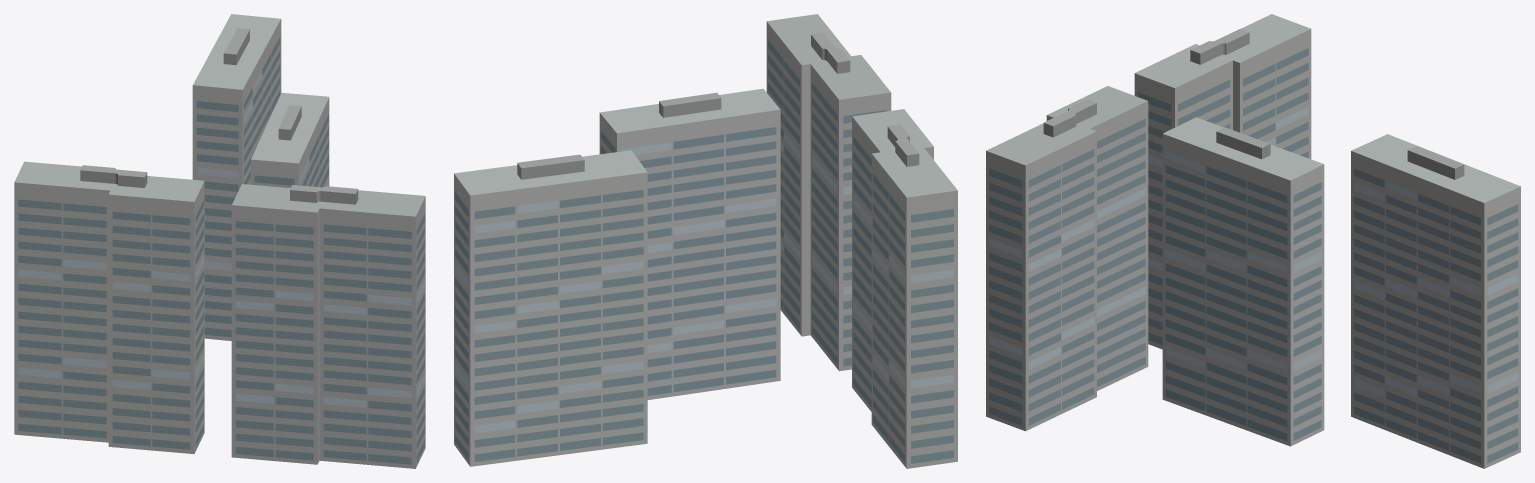
File: apt-a15786116.glb
3 renders of one model, left to right at view 1: azimuth 30°, elevation 25°; view 2: azimuth 150°, elevation 25°; view 3: azimuth 270°, elevation 25°, orthographic. The views are drawn at different scales.
Visible parts, largest first — view 1: apt-a15786116; view 2: apt-a15786116; view 3: apt-a15786116.
Boxes of the visible parts, <box> form: apt-a15786116: <box>14,14,425,468</box>; apt-a15786116: <box>454,14,957,468</box>; apt-a15786116: <box>986,14,1520,468</box>.
Bounding box in the file's own units: 86.33 × 59 × 103.
